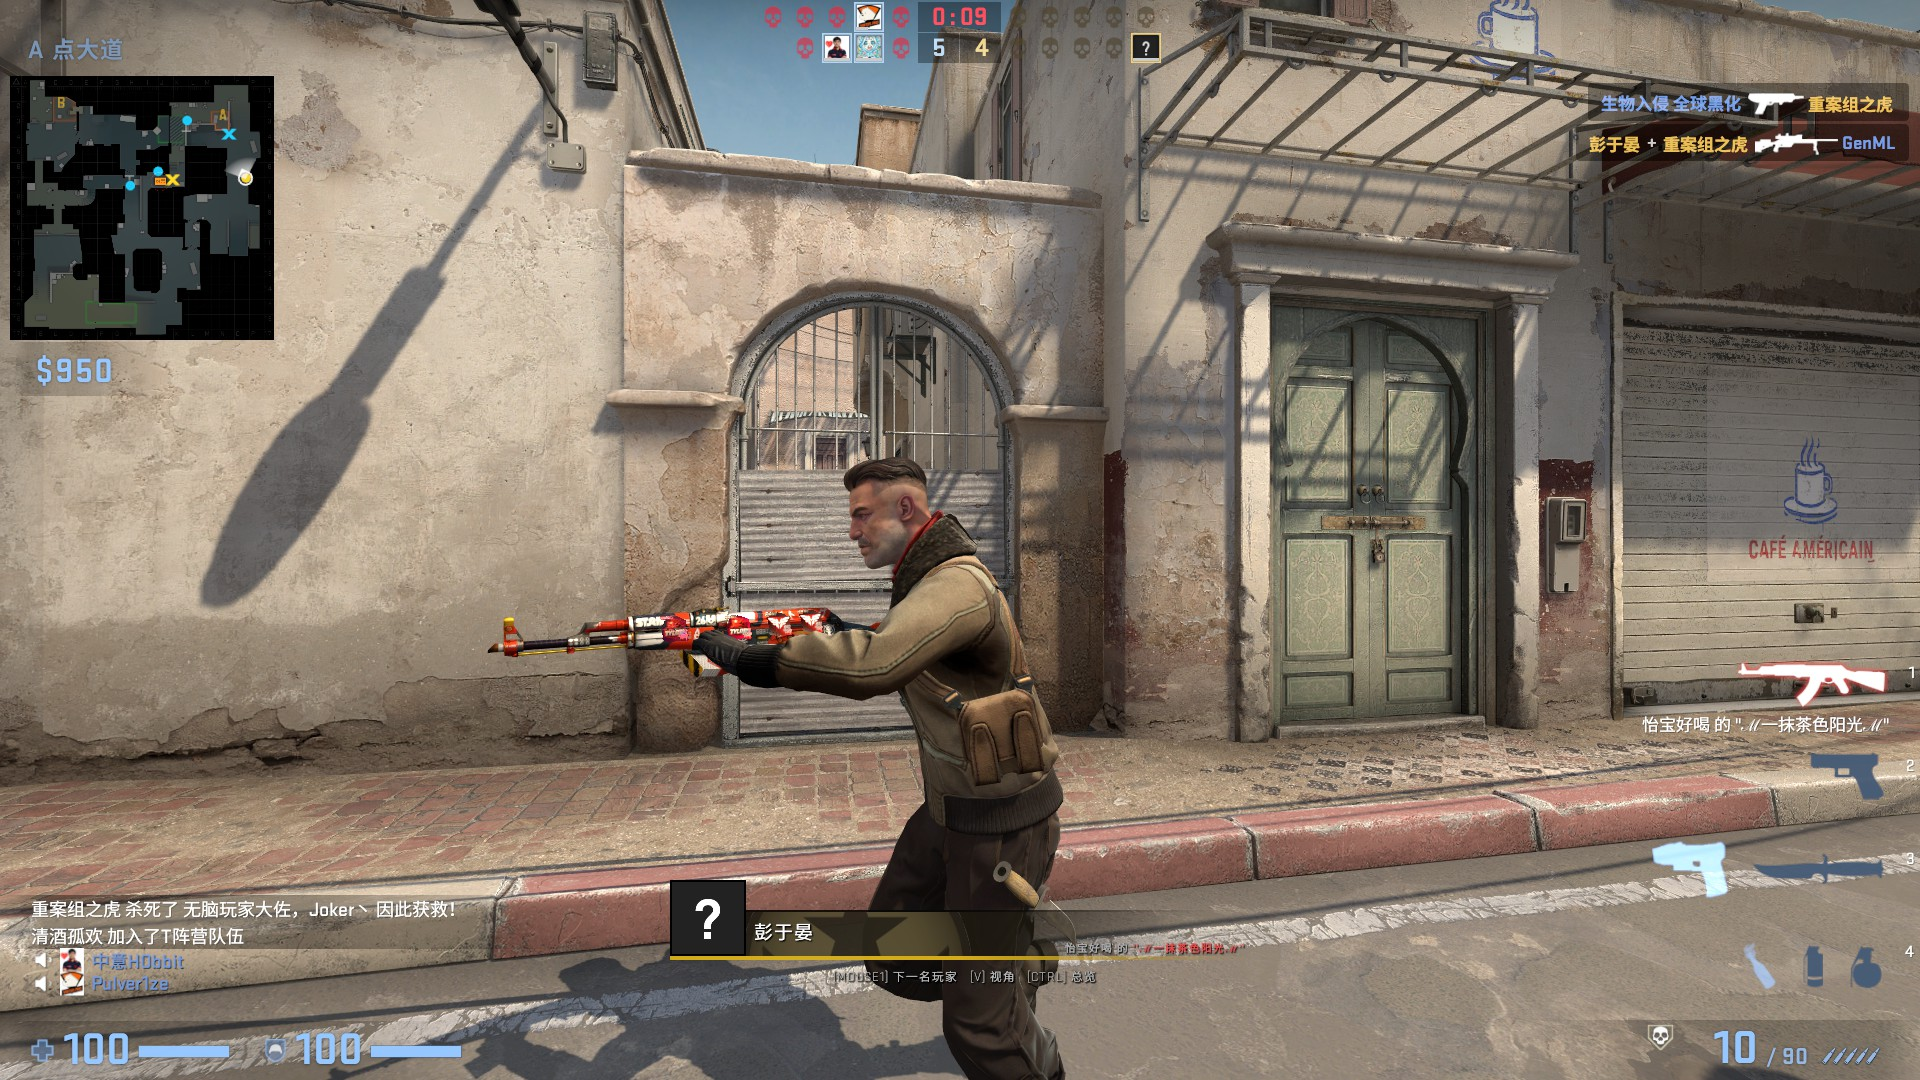head: (839, 454, 935, 571)
